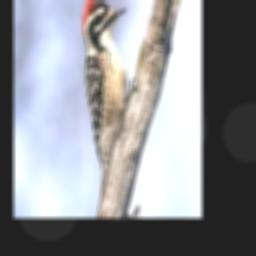Woodpecker: (80, 0, 139, 195)
